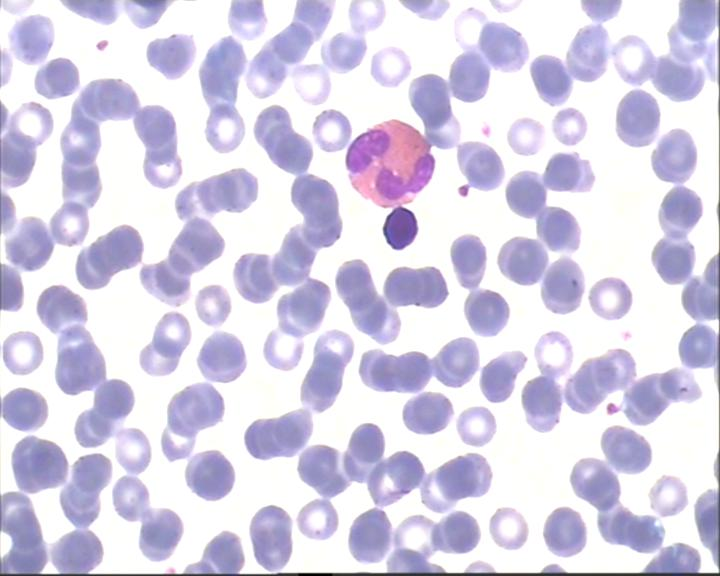eosi: (341, 117, 439, 213)
